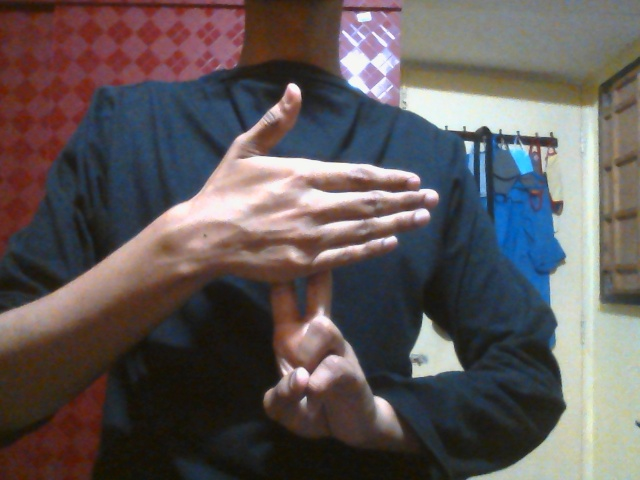N: (187, 83, 438, 459)
